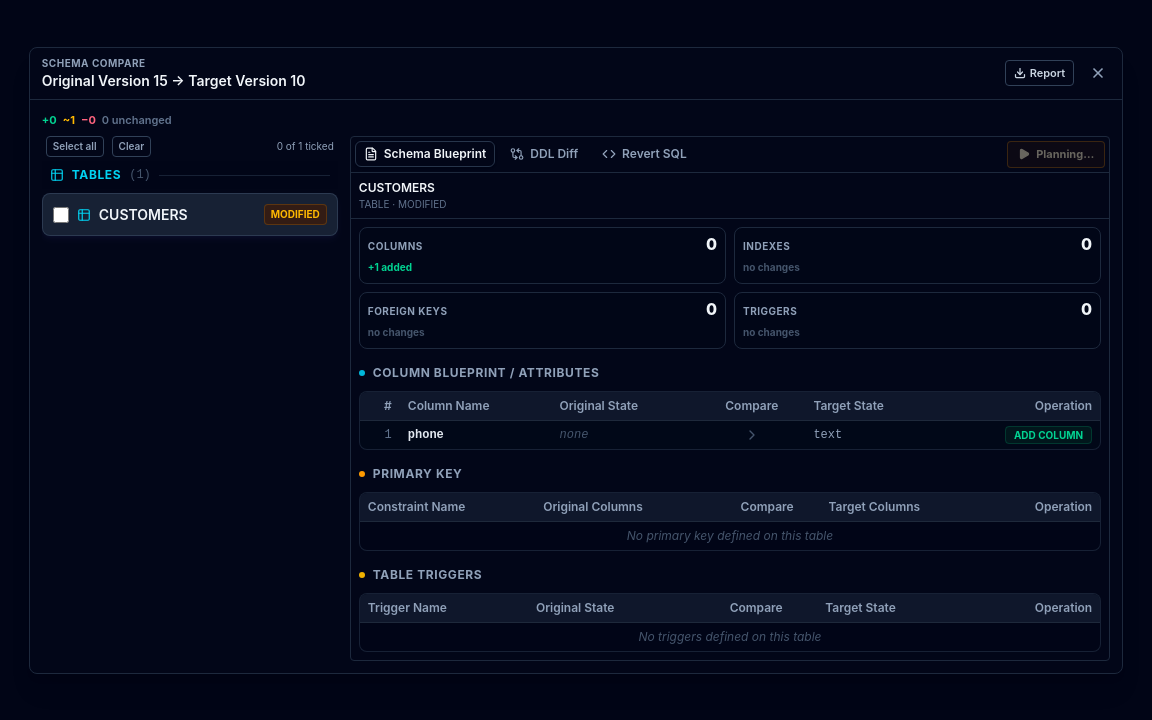
Test: the run button names where it goes › calls a destructive plan a revert, and names the version either way
Expected: the button with test id "lokee-cmp-run-revert" is shown, [1007,141,1105,168]
Click the button with test id "lokee-cmp-select-all": (75, 146) [46,136,104,157]
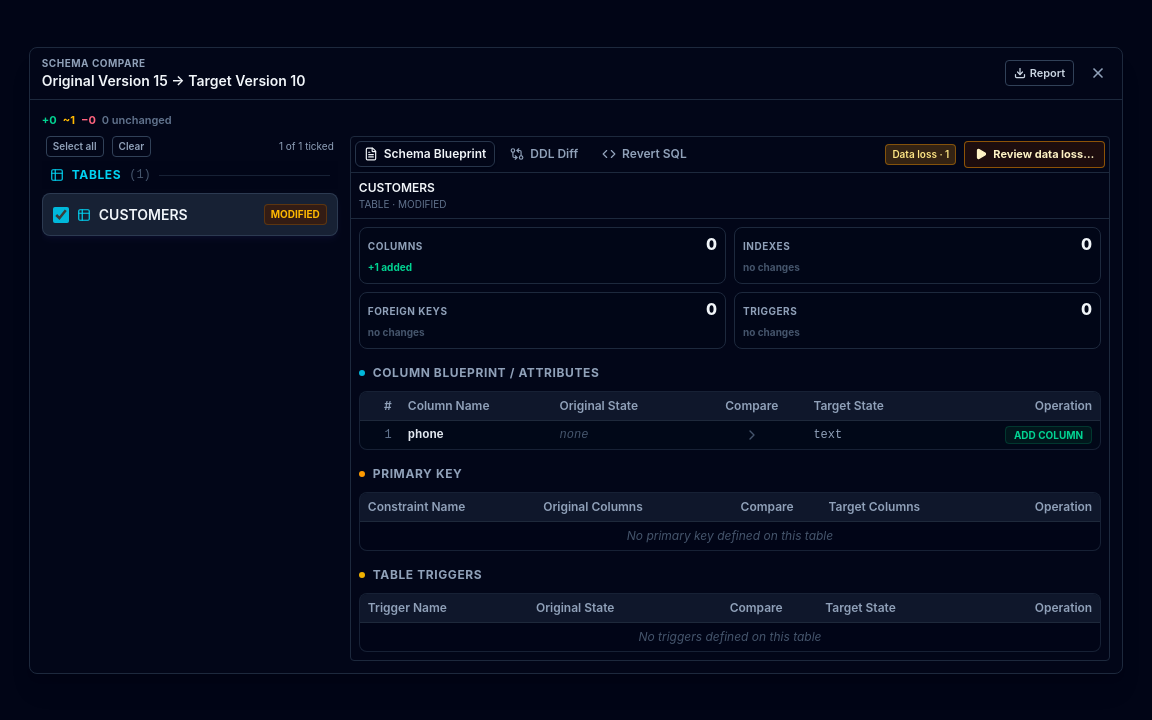
Result: the button with test id "lokee-cmp-run-revert" shows "Review data loss" at [964,141,1105,168]
